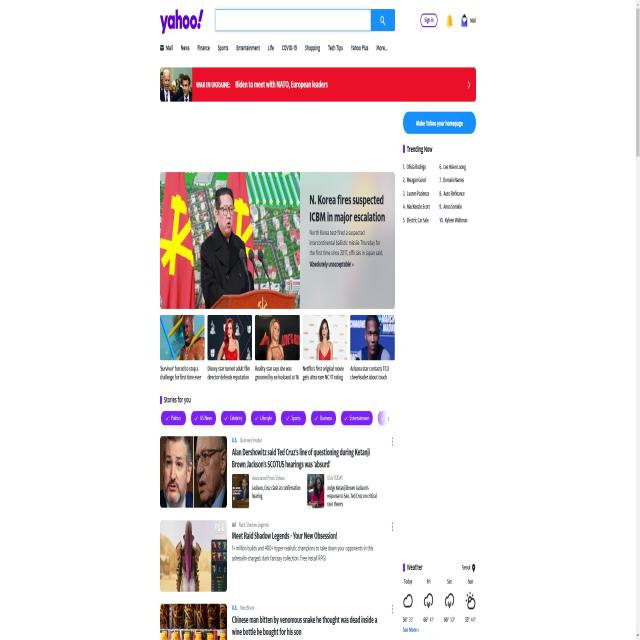menu-bar: (418, 10, 478, 31)
search: (212, 8, 396, 32)
side-panel: (400, 142, 486, 640)
tab-bar: (157, 42, 394, 60)
